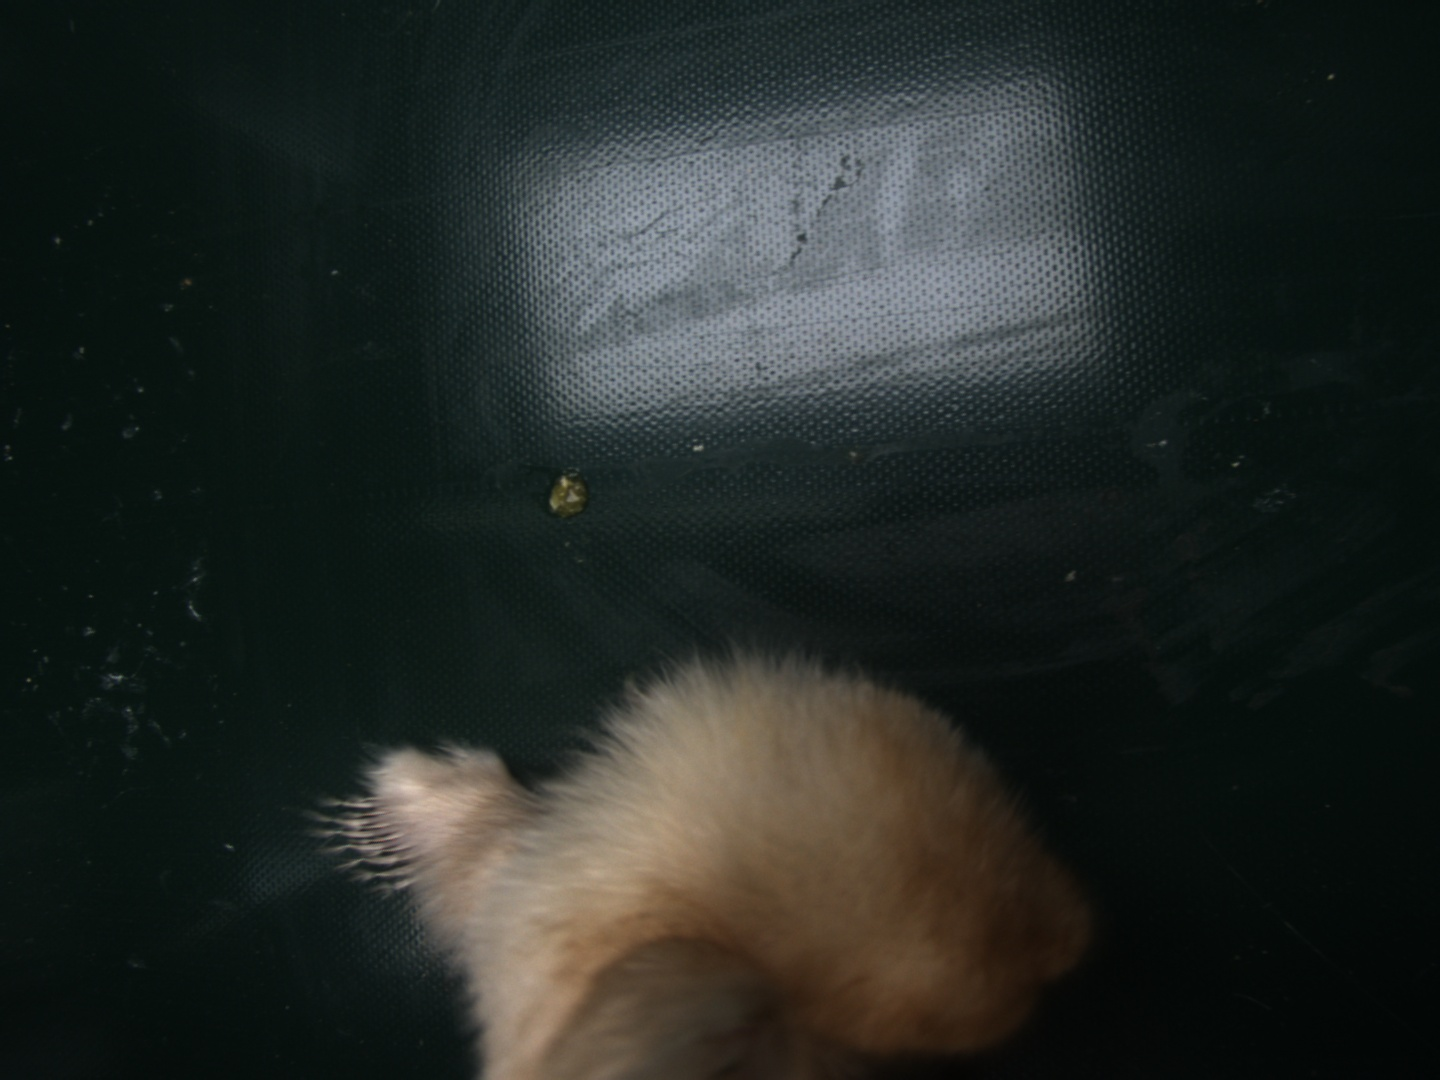female: (303, 792, 421, 900)
